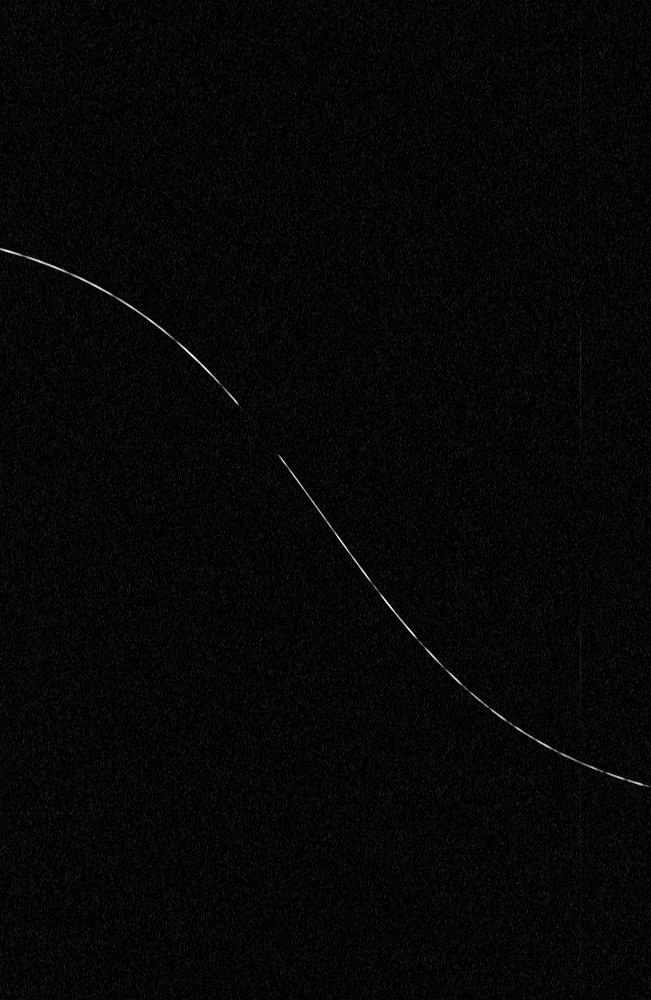signal: (0, 0, 650, 999)
